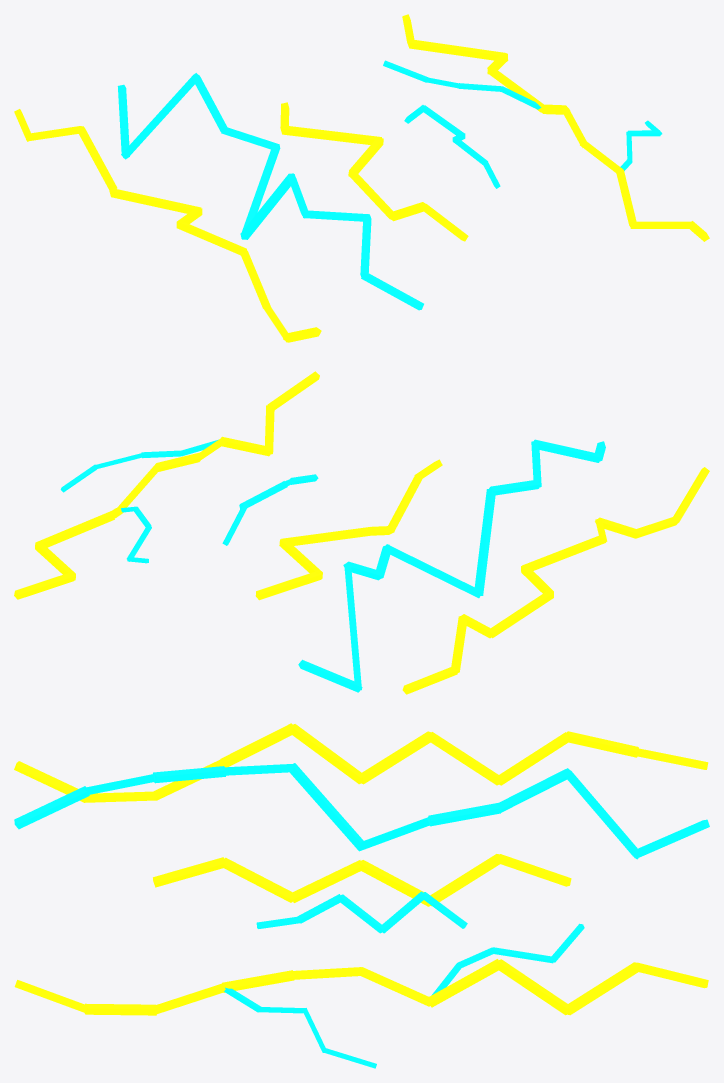
Rendered from FX_Lightning.fbx.
3 renders of one model, top to bottom at view 1: azimuth 30°, elevation 25°; view 2: azimuth 150°, elevation 25°; view 3: azimuth 270°, elevation 25°, orthographic. The views are drawn at different scales.
Visible parts, largest first — view 1: Bolt_LongWild, Bolt_Long, Bolt_Forked_Main, Bolt_Medium, Bolt_Forked_Branch1, Bolt_Spark, Bolt_Forked_Branch0; view 2: Bolt_LongWild, Bolt_Long, Bolt_Forked_Main, Bolt_Medium, Bolt_Forked_Branch0, Bolt_Spark, Bolt_Forked_Branch1; view 3: Bolt_LongWild, Bolt_Long, Bolt_Forked_Main, Bolt_Medium, Bolt_Spark, Bolt_Forked_Branch1, Bolt_Forked_Branch0.
Boxes of the visible parts, <box> form: Bolt_LongWild: <box>117,73,423,310</box>; Bolt_Long: <box>14,109,321,342</box>; Bolt_Forked_Main: <box>402,14,709,241</box>; Bolt_Medium: <box>280,102,468,241</box>; Bolt_Forked_Branch1: <box>383,60,541,109</box>; Bolt_Spark: <box>404,105,500,188</box>; Bolt_Forked_Branch0: <box>620,120,662,171</box>; Bolt_LongWild: <box>298,439,605,692</box>; Bolt_Long: <box>402,467,709,694</box>; Bolt_Forked_Main: <box>14,371,319,599</box>; Bolt_Medium: <box>255,459,442,600</box>; Bolt_Forked_Branch0: <box>60,439,218,492</box>; Bolt_Spark: <box>222,474,318,545</box>; Bolt_Forked_Branch1: <box>121,506,151,563</box>; Bolt_LongWild: <box>14,763,709,859</box>; Bolt_Long: <box>14,723,708,802</box>; Bolt_Forked_Main: <box>14,959,708,1015</box>; Bolt_Medium: <box>153,854,571,906</box>; Bolt_Spark: <box>256,891,467,933</box>; Bolt_Forked_Branch1: <box>431,923,584,995</box>; Bolt_Forked_Branch0: <box>224,987,376,1068</box>.
Bounding box in the file's own units: 0.9973 × 0.1804 × 1.01.
